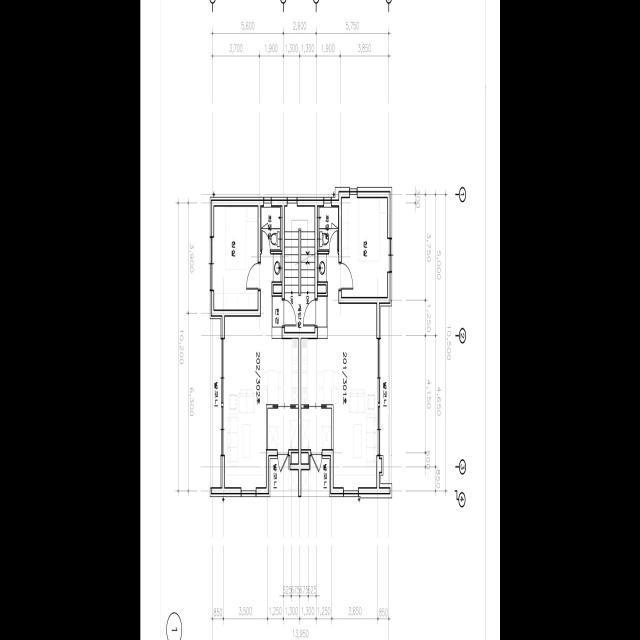background: (140, 0, 500, 640)
space_balconi: (380, 306, 389, 483), (212, 319, 220, 487), (270, 456, 298, 491), (301, 456, 329, 491)
space_bedroom: (341, 195, 388, 297), (212, 206, 257, 310)
space_front: (317, 297, 327, 338), (272, 297, 281, 339)
space_kitchen: (301, 339, 338, 405), (262, 338, 298, 405)
space_living_room: (316, 254, 377, 490), (223, 255, 283, 490)
space_other: (268, 408, 298, 449), (301, 408, 331, 449), (317, 285, 326, 293), (291, 453, 298, 463), (301, 453, 308, 463), (273, 285, 281, 293)
space_staircase: (284, 203, 314, 332)
space_toilet: (260, 207, 281, 251), (318, 207, 338, 251)
